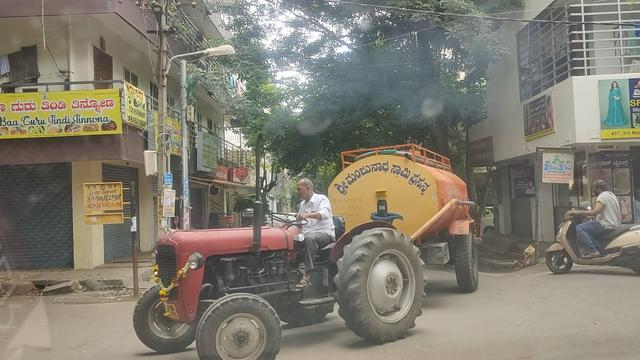HMV: (109, 103, 502, 360)
LMV: (533, 167, 640, 281)
